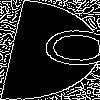O: (25, 25, 100, 70)
